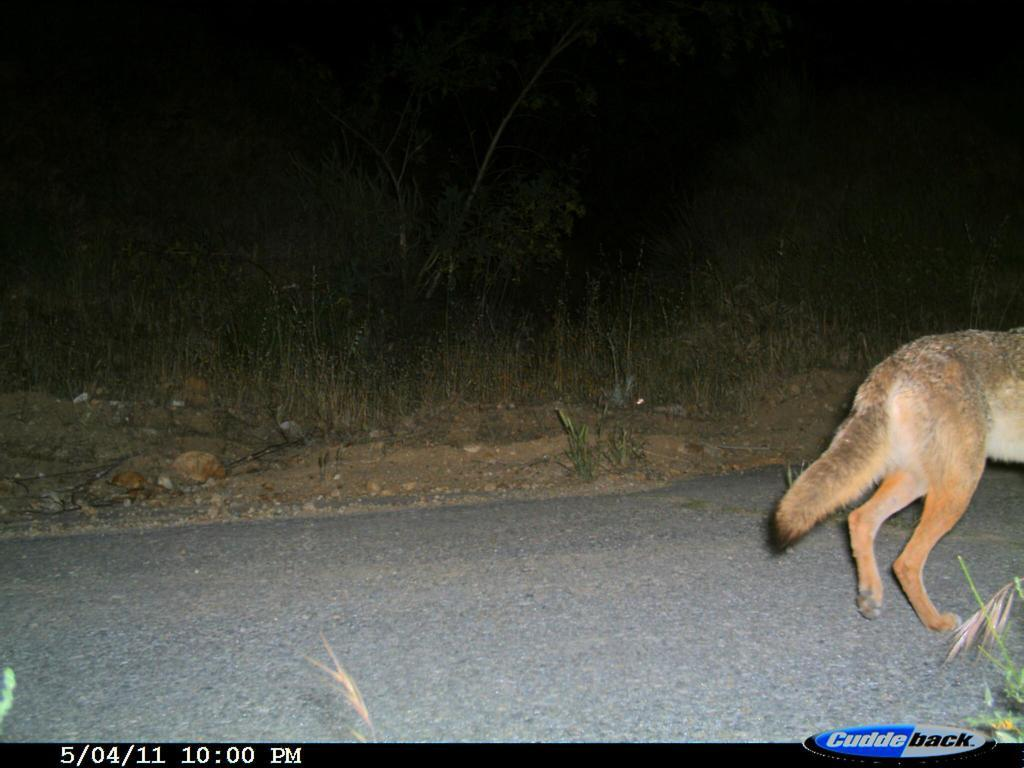coyote: (753, 306, 1023, 649)
